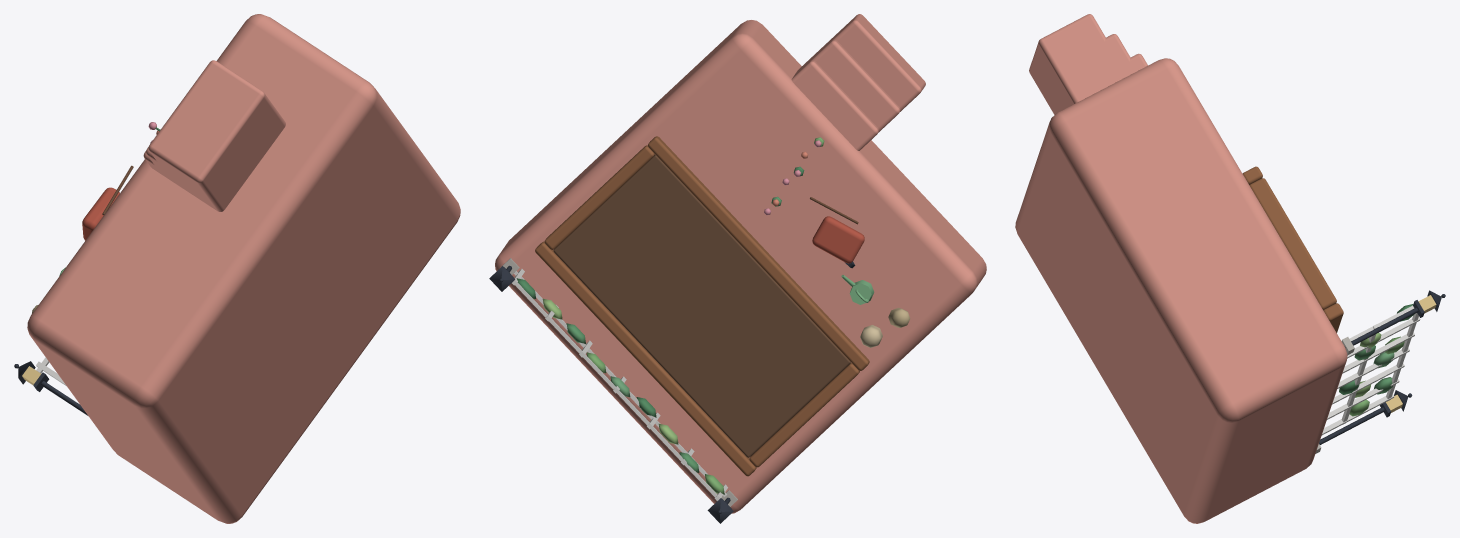
Rendered from station-github.glb.
3 renders of one model, left to right at view 1: azimuth 30°, elevation 25°; view 2: azimuth 150°, elevation 25°; view 3: azimuth 270°, elevation 25°, orthographic. The views are drawn at different scales.
Parts seen in each view (by area): view 1: github; view 2: github; view 3: github.
Part boxes in pixels (x1=…): github: x1=14, y1=14, x2=460, y2=523; github: x1=489, y1=14, x2=986, y2=523; github: x1=1015, y1=14, x2=1445, y2=523.
Bounding box in the file's own units: 3.32 × 3.44 × 2.82.
